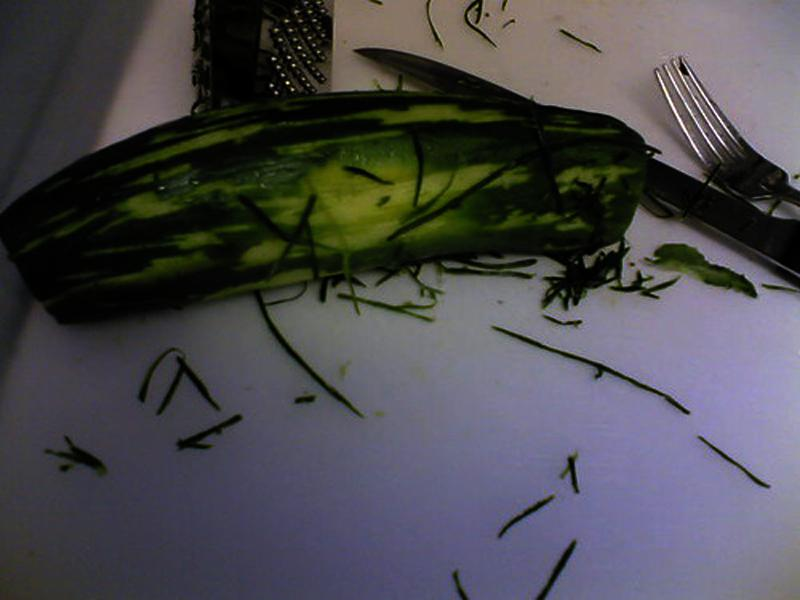Cucumber: (3, 91, 648, 325)
